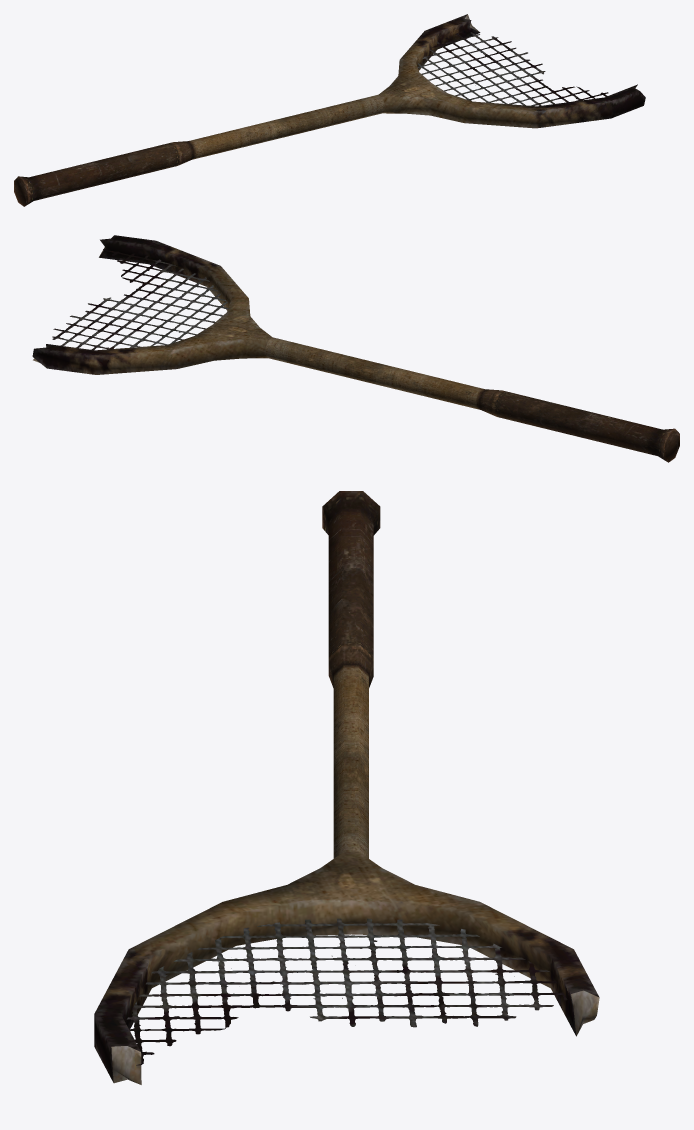
The model's file is badminton_racket.dae.
3 views of the same model, one above another, from view 1: azimuth 30°, elevation 25°; view 2: azimuth 150°, elevation 25°; view 3: azimuth 270°, elevation 25° (orthographic). The views are drawn at different scales.
Parts seen in each view (by area): view 1: polySurface1, pPlane2, pPlane3; view 2: polySurface1, pPlane2, pPlane3; view 3: polySurface1, pPlane2, pPlane3.
Boxes of the visible parts, box(x1,y1,x2,y2) form: polySurface1: box(14, 14, 645, 206); pPlane2: box(417, 31, 608, 105); pPlane3: box(418, 31, 606, 102); polySurface1: box(32, 235, 679, 462); pPlane2: box(52, 248, 227, 349); pPlane3: box(52, 250, 226, 349); polySurface1: box(94, 491, 599, 1084); pPlane2: box(127, 918, 567, 1065); pPlane3: box(128, 919, 566, 1064).
Size of the model in its own units: 0.9501 by 0.0388 by 0.3392.
